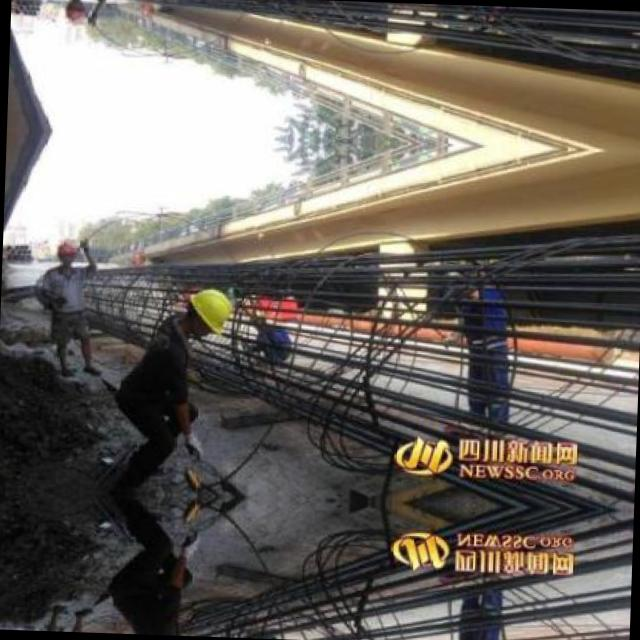helmet: (180, 284, 237, 336), (47, 234, 81, 268), (55, 0, 89, 28)
